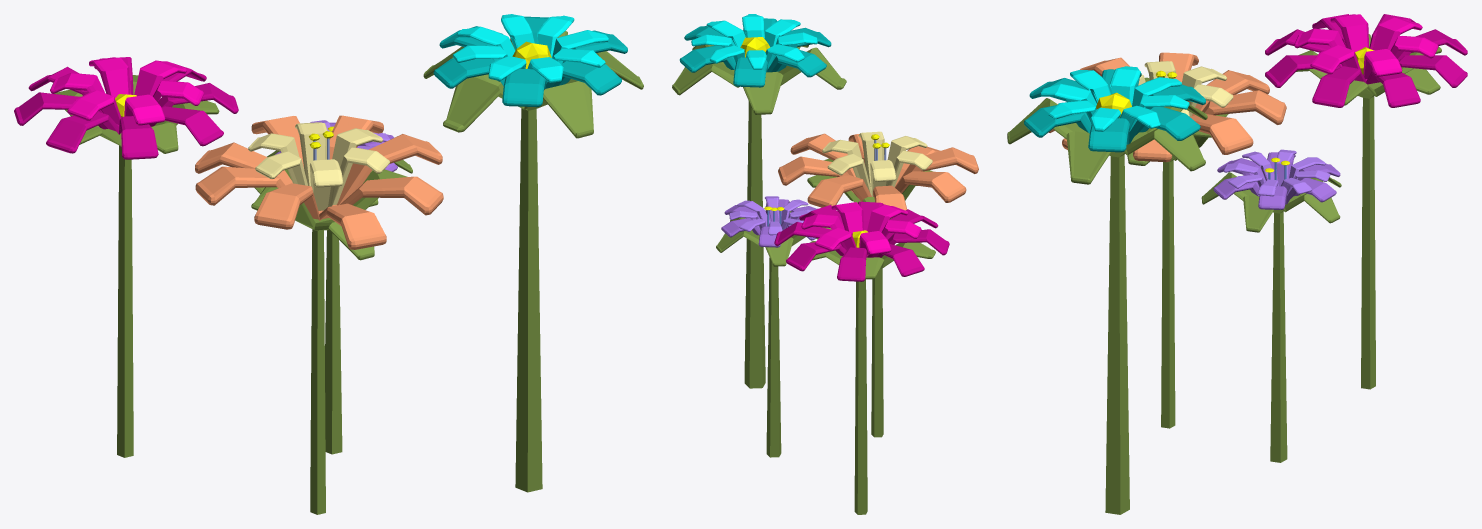
Rendered from flower_01.fbx.
The picture shows the model from 3 angles, left to right: view 1: azimuth 30°, elevation 25°; view 2: azimuth 150°, elevation 25°; view 3: azimuth 270°, elevation 25°; orthographic projection. The views are drawn at different scales.
Visible parts, largest first — view 1: Flower_Group_01; view 2: Flower_Group_01; view 3: Flower_Group_01.
Part boxes in pixels (x1,y1,x2,y2): Flower_Group_01: [14, 14, 643, 514]; Flower_Group_01: [672, 14, 978, 514]; Flower_Group_01: [1007, 14, 1467, 514].
Size of the model in its own units: 85.13 by 78.81 by 78.96.
